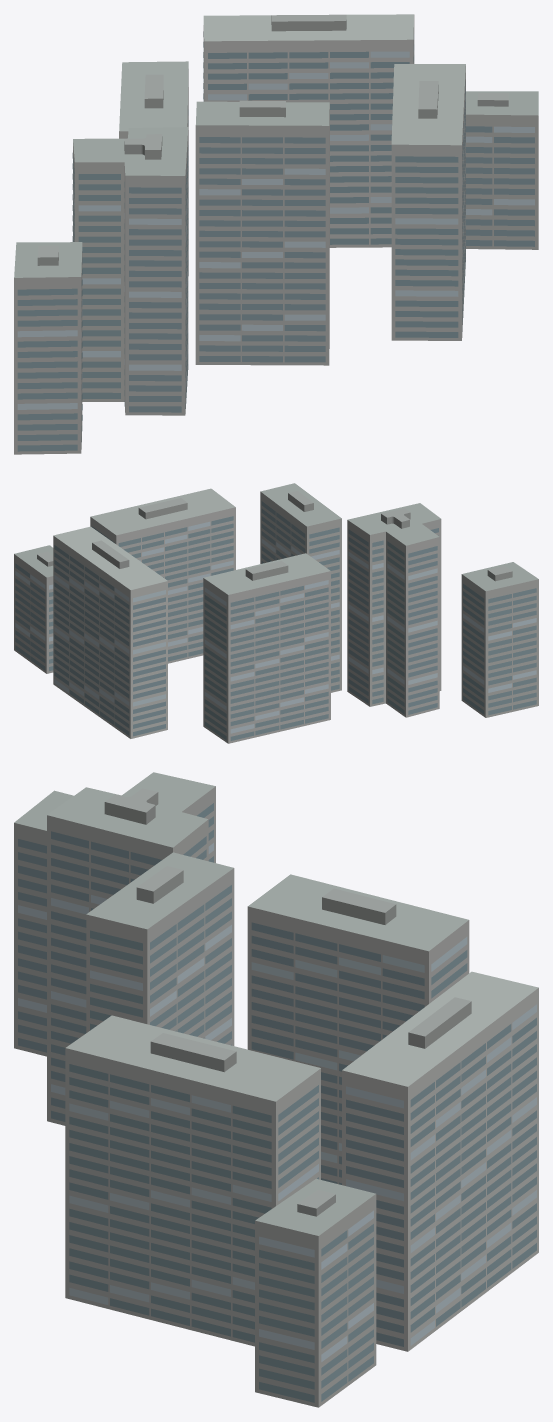
Rendered from apt-a15208204.glb.
3 renders of one model, top to bottom at view 1: azimuth 30°, elevation 25°; view 2: azimuth 150°, elevation 25°; view 3: azimuth 270°, elevation 25°, orthographic. The views are drawn at different scales.
Parts seen in each view (by area): view 1: apt-a15208204; view 2: apt-a15208204; view 3: apt-a15208204.
Boxes of the visible parts, x1,y1,x2,y2 form: apt-a15208204: (14, 14, 538, 454); apt-a15208204: (14, 483, 538, 743); apt-a15208204: (14, 772, 538, 1407).
Bounding box in the file's own units: 163 × 62 × 92.64.
